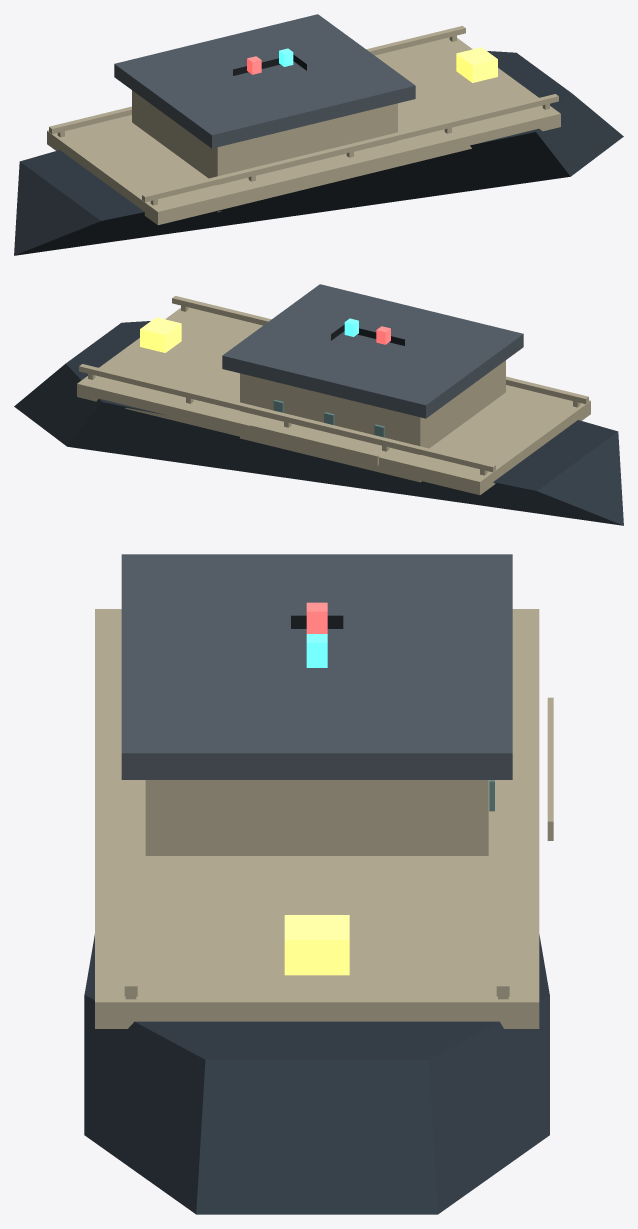
Rendered from gcpd_harbor_patrol.glb.
The picture shows the model from 3 angles, top to bottom: view 1: azimuth 30°, elevation 25°; view 2: azimuth 150°, elevation 25°; view 3: azimuth 270°, elevation 25°; orthographic projection. The views are drawn at different scales.
Parts seen in each view (by area): view 1: GCPD_patrol_hull.003, GCPD_white_deck_stripe.003, GCPD_cabin_roof.003, GCPD_cabin_cabin.003, GCPD_rail_side.007, GCPD_rail_side.006, GCPD_searchlight.003; view 2: GCPD_patrol_hull.003, GCPD_white_deck_stripe.003, GCPD_cabin_roof.003, GCPD_cabin_cabin.003, GCPD_rail_side.006, GCPD_rail_side.007, GCPD_hull_marking.003, GCPD_searchlight.003; view 3: GCPD_cabin_roof.003, GCPD_white_deck_stripe.003, GCPD_patrol_hull.003, GCPD_cabin_cabin.003, GCPD_searchlight.003, GCPD_rail_side.006, GCPD_rail_side.007, GCPD_hull_marking.003.
Boxes of the visible parts, x1=… form: GCPD_patrol_hull.003: x1=14, y1=51, x2=623, y2=255; GCPD_white_deck_stripe.003: x1=47, y1=37, x2=560, y2=225; GCPD_cabin_roof.003: x1=114, y1=14, x2=415, y2=148; GCPD_cabin_cabin.003: x1=132, y1=90, x2=397, y2=212; GCPD_rail_side.007: x1=142, y1=94, x2=558, y2=202; GCPD_rail_side.006: x1=49, y1=26, x2=465, y2=134; GCPD_searchlight.003: x1=456, y1=47, x2=497, y2=82; GCPD_patrol_hull.003: x1=14, y1=321, x2=623, y2=525; GCPD_white_deck_stripe.003: x1=77, y1=307, x2=590, y2=495; GCPD_cabin_roof.003: x1=222, y1=284, x2=523, y2=418; GCPD_cabin_cabin.003: x1=240, y1=360, x2=505, y2=482; GCPD_rail_side.006: x1=79, y1=364, x2=495, y2=472; GCPD_rail_side.007: x1=172, y1=296, x2=588, y2=404; GCPD_hull_marking.003: x1=250, y1=424, x2=378, y2=465; GCPD_searchlight.003: x1=140, y1=317, x2=181, y2=352; GCPD_cabin_roof.003: x1=121, y1=554, x2=512, y2=779; GCPD_white_deck_stripe.003: x1=95, y1=609, x2=539, y2=1028; GCPD_patrol_hull.003: x1=84, y1=934, x2=549, y2=1214; GCPD_cabin_cabin.003: x1=145, y1=780, x2=488, y2=855; GCPD_searchlight.003: x1=284, y1=915, x2=349, y2=975; GCPD_rail_side.006: x1=496, y1=780, x2=509, y2=996; GCPD_rail_side.007: x1=124, y1=780, x2=137, y2=996; GCPD_hull_marking.003: x1=547, y1=697, x2=553, y2=840.
Size of the model in its own units: 8.2 by 1.87 by 2.87.
